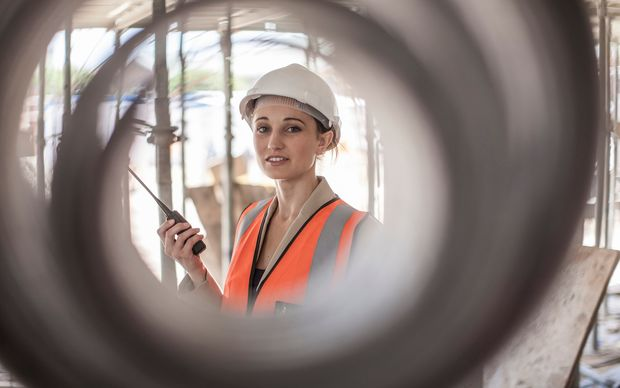hard hat: (239, 63, 342, 126)
high-vis: (222, 197, 373, 314)
